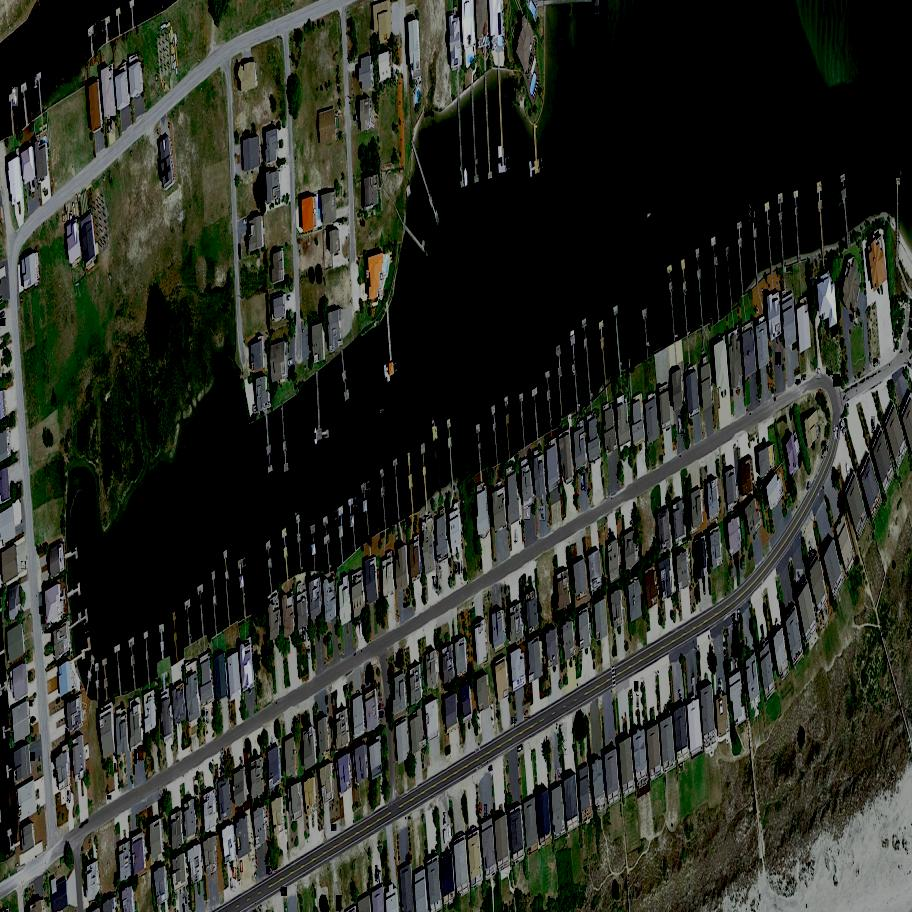ship: (559, 722, 569, 741), (746, 204, 755, 224), (12, 87, 19, 106), (678, 416, 685, 434), (447, 823, 453, 841)
small-vehicle: (795, 569, 804, 584), (831, 375, 842, 387), (335, 895, 343, 910), (733, 644, 741, 658), (838, 419, 847, 431), (870, 417, 876, 433), (539, 507, 546, 520), (524, 507, 531, 520), (239, 756, 245, 771), (453, 561, 459, 576), (775, 353, 782, 365), (432, 577, 439, 589), (556, 769, 563, 781), (582, 474, 587, 490), (230, 878, 236, 891), (809, 538, 814, 553), (822, 447, 829, 457), (834, 425, 839, 439), (107, 119, 112, 133), (139, 747, 144, 761), (302, 628, 307, 642), (679, 690, 684, 703), (563, 741, 568, 754), (280, 887, 287, 896), (816, 368, 822, 378), (806, 479, 811, 491), (134, 749, 138, 764), (111, 117, 115, 132), (184, 891, 188, 905), (634, 681, 639, 691), (306, 647, 311, 657), (38, 607, 45, 614), (841, 428, 847, 436), (365, 671, 369, 683), (273, 863, 278, 872), (30, 752, 35, 761), (801, 374, 807, 381), (733, 630, 736, 644), (331, 824, 337, 831), (827, 367, 831, 377), (458, 562, 461, 574), (379, 711, 384, 718), (233, 870, 237, 878), (488, 766, 494, 771), (0, 320, 5, 326), (267, 867, 272, 873), (207, 709, 209, 724), (525, 711, 530, 717), (31, 716, 35, 723), (375, 867, 377, 881), (68, 791, 71, 800), (379, 701, 382, 710), (795, 379, 800, 384), (731, 645, 733, 657), (511, 719, 514, 727), (137, 748, 139, 759), (203, 708, 205, 719), (42, 617, 45, 624), (480, 802, 482, 812), (874, 359, 877, 365), (22, 562, 25, 568), (114, 764, 116, 773), (460, 561, 461, 573), (444, 813, 445, 825), (734, 614, 735, 625), (485, 806, 486, 817), (30, 701, 32, 706), (745, 639, 746, 648), (108, 796, 111, 799), (637, 696, 637, 696), (271, 737, 271, 747), (515, 530, 515, 534)
